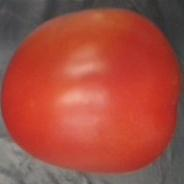unripe: (1, 5, 184, 173)
